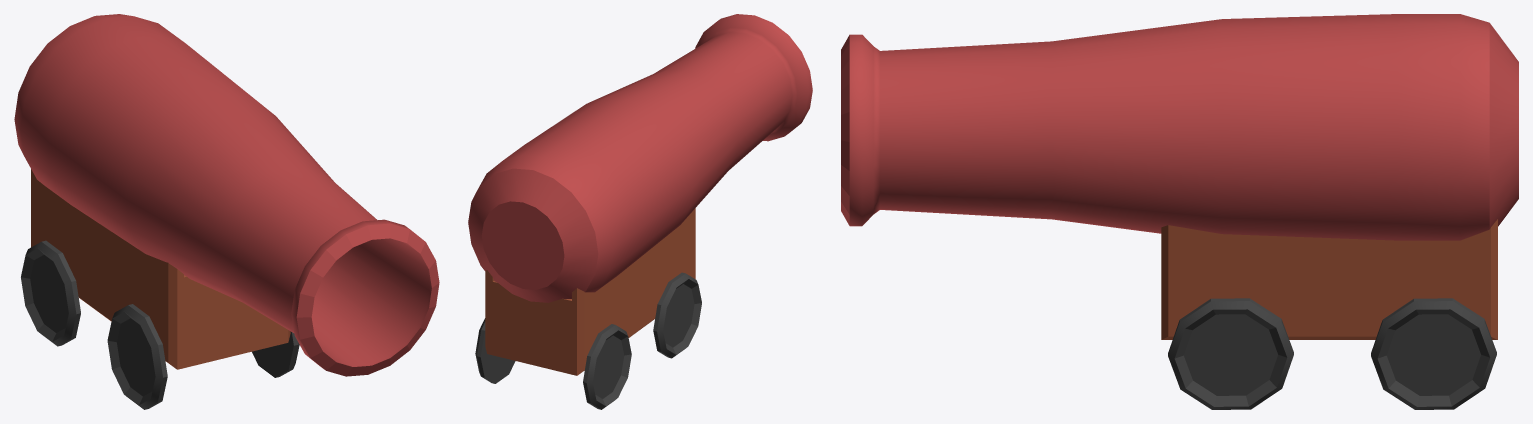
File: Canon.fbx
3 renders of one model, left to right at view 1: azimuth 30°, elevation 25°; view 2: azimuth 150°, elevation 25°; view 3: azimuth 270°, elevation 25°, orthographic. The views are drawn at different scales.
Visible parts, largest first — view 1: polySurface53.001; view 2: polySurface53.001; view 3: polySurface53.001.
Boxes of the visible parts, x1,y1,x2,y2 form: polySurface53.001: (14,14,439,409); polySurface53.001: (468,14,812,409); polySurface53.001: (841,14,1518,409).
Bounding box in the file's own units: 200 × 327 × 578.
